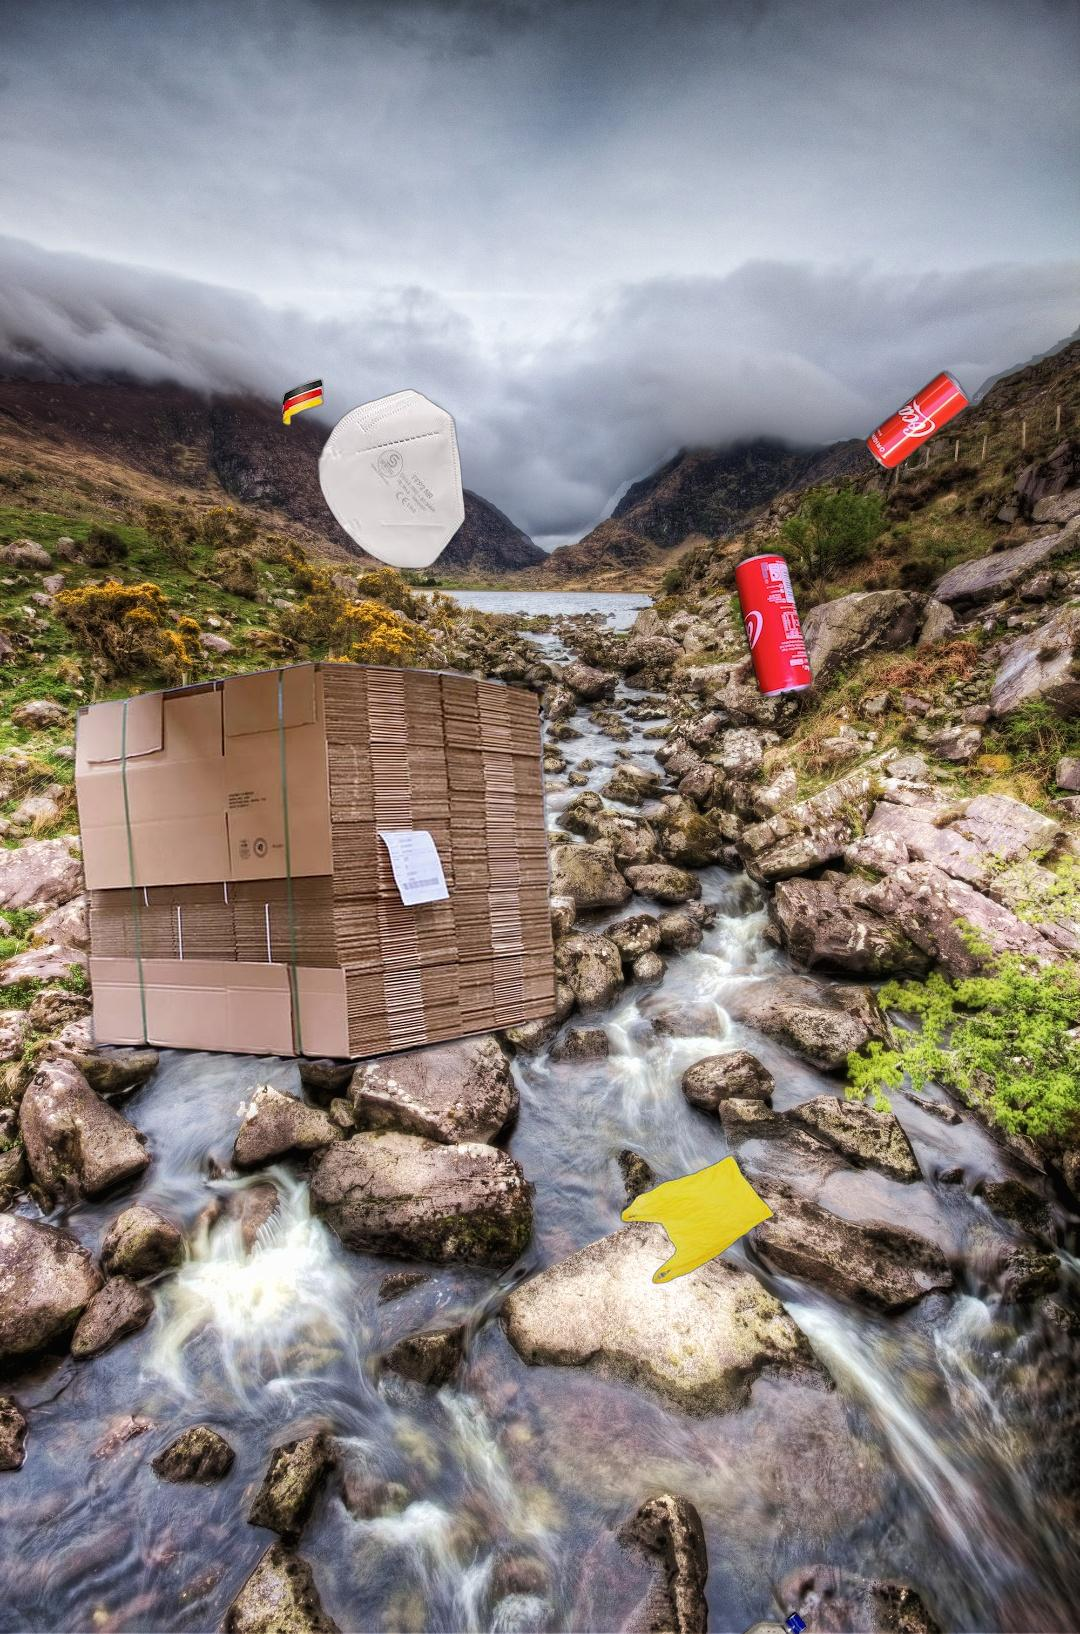metal-cans: (730, 547, 817, 703), (862, 366, 974, 476)
plastic-bag: (618, 1152, 776, 1287)
plastic-bottles: (671, 1605, 812, 1634)
trash: (279, 376, 468, 571)
trashbox-cardboard: (65, 657, 565, 1126)
